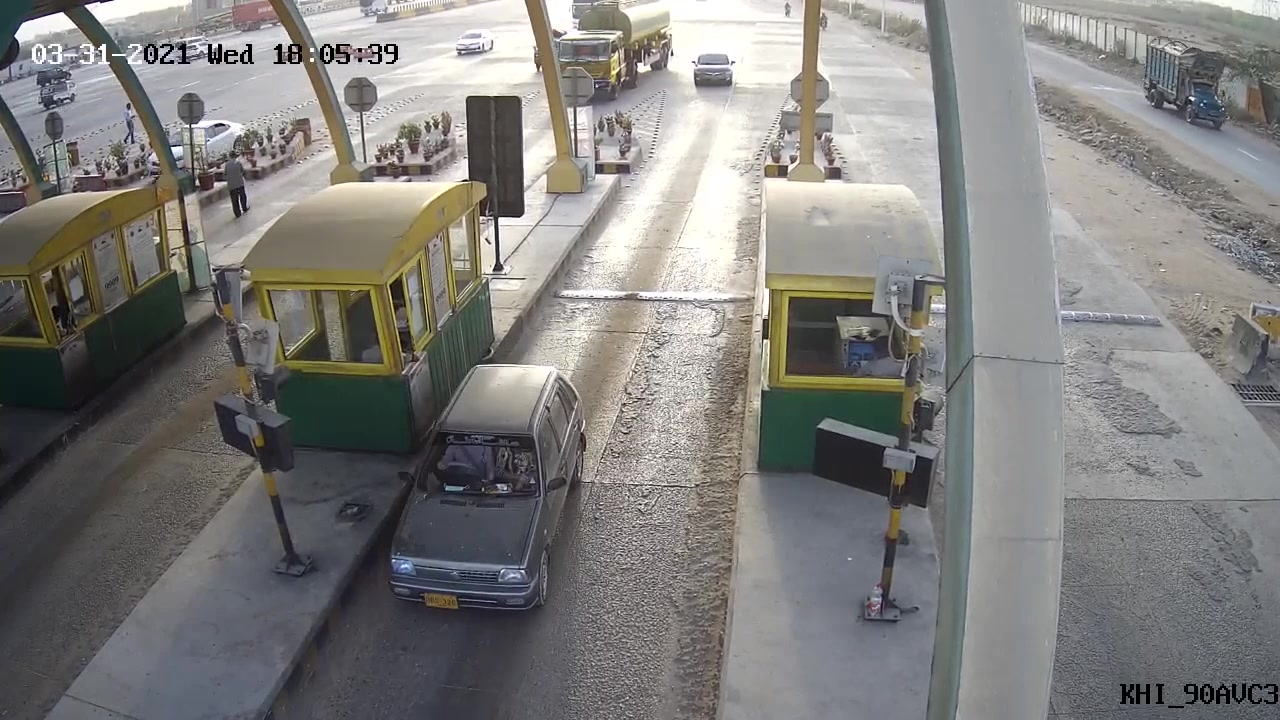F1: (382, 356, 598, 620)
